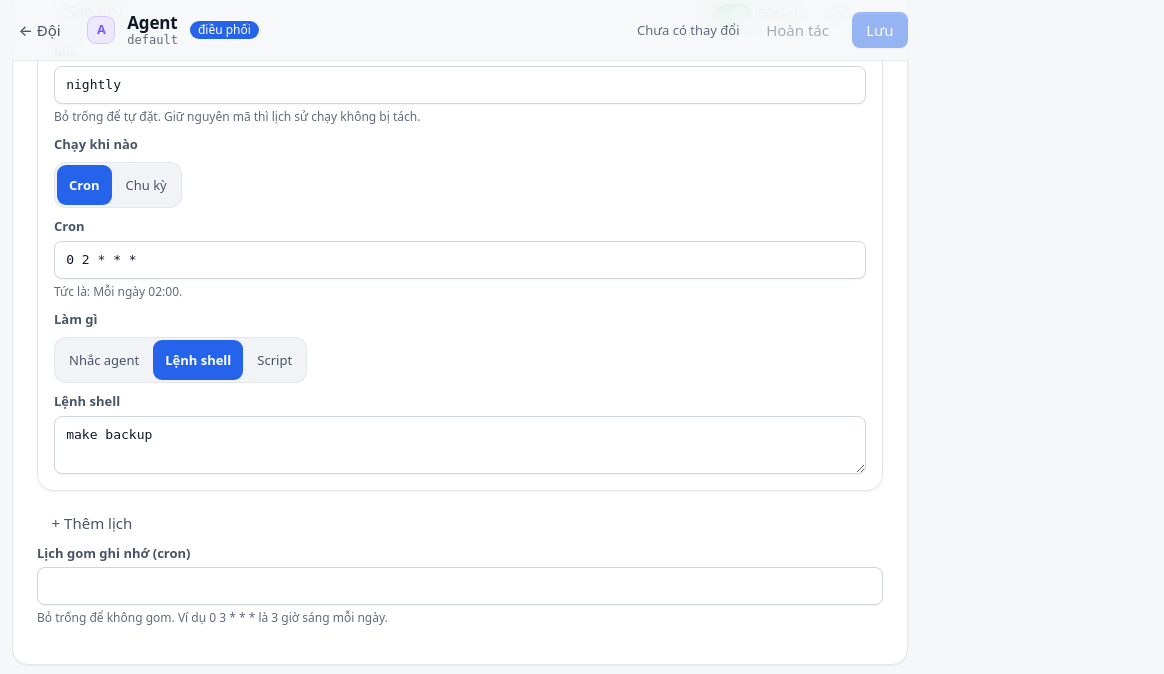
the skills a command row lists in its file › leave nothing to save once the row went to a prompt and came back
The image size is (1164, 674).
(page scrolled)
Expected: the text "Chưa có thay đổi" is shown, [637,20,740,40]
Expected: the button "Lưu" is disabled, [852,12,908,48]
Click the button "Nhắc agent". click: (104, 360)
box: [57,340,151,380]
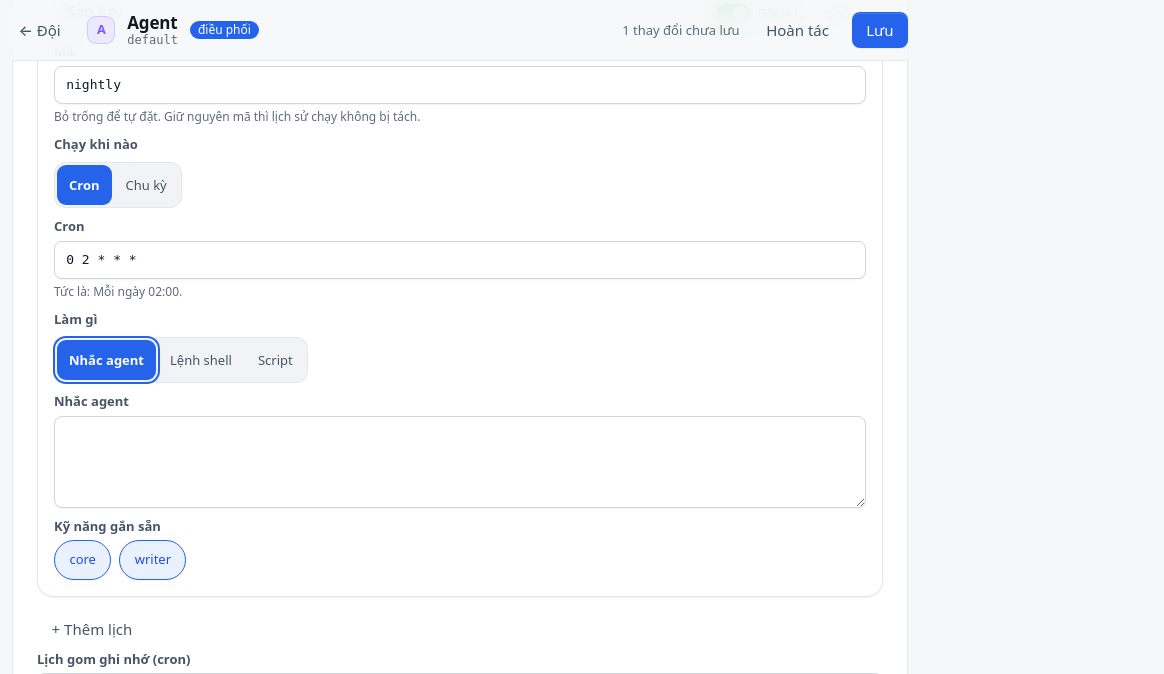
Click the button "Lệnh shell". click: (201, 360)
box: [158,340,244,380]
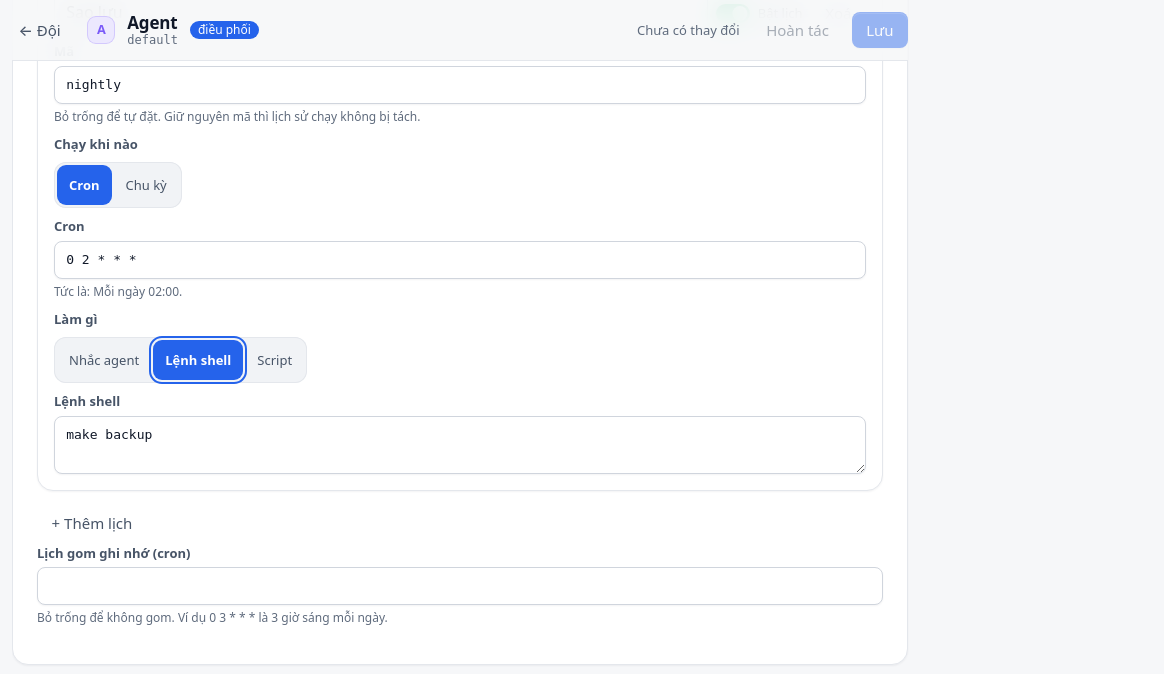
Expected: the text box labelled "Lệnh shell" holds "make backup", [54,416,866,474]
Expected: the text "Chưa có thay đổi" is shown, [637,20,740,40]
Expected: the button "Lưu" is disabled, [852,12,908,48]
